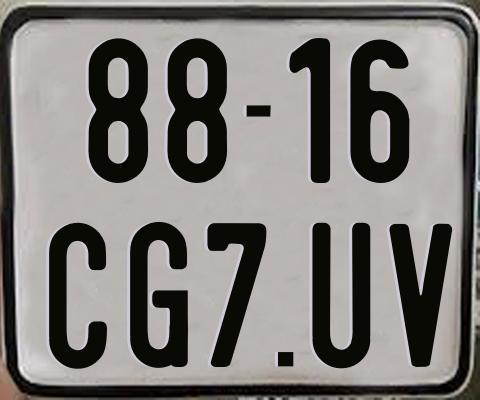1: (288, 38, 329, 184)
6: (347, 37, 412, 183)
7: (204, 222, 266, 371)
8: (85, 37, 149, 187), (164, 35, 225, 181)
C: (47, 220, 111, 370)
G: (127, 220, 189, 367)
U: (312, 221, 370, 372)
V: (386, 222, 449, 365)
